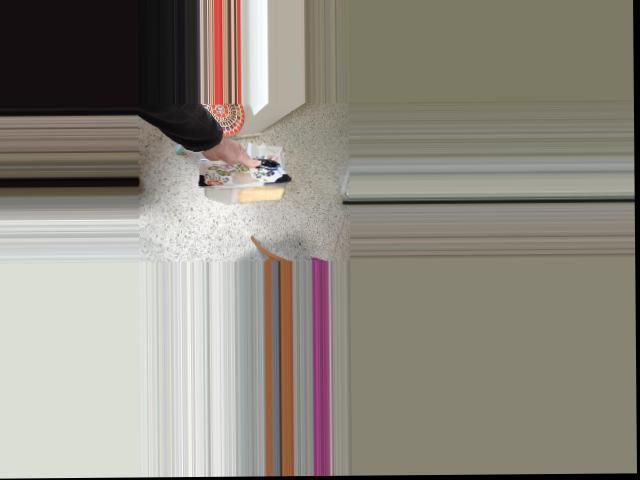cheese: (187, 135, 295, 227)
